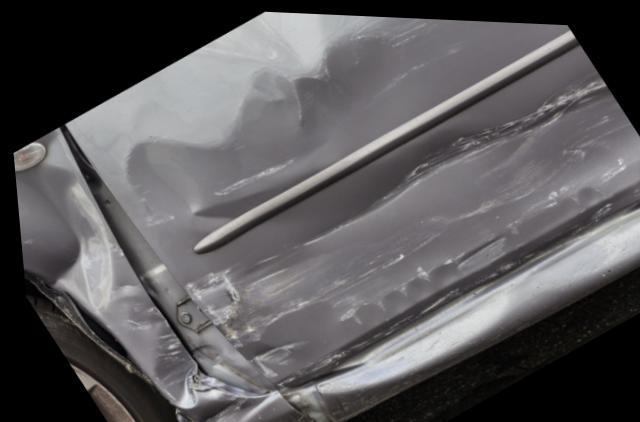dent: (116, 9, 640, 385), (311, 203, 640, 384), (11, 127, 185, 392)
